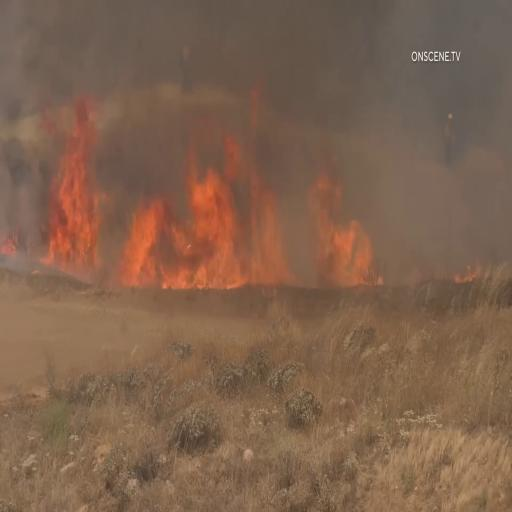fire: (124, 84, 295, 285), (31, 81, 105, 279)
